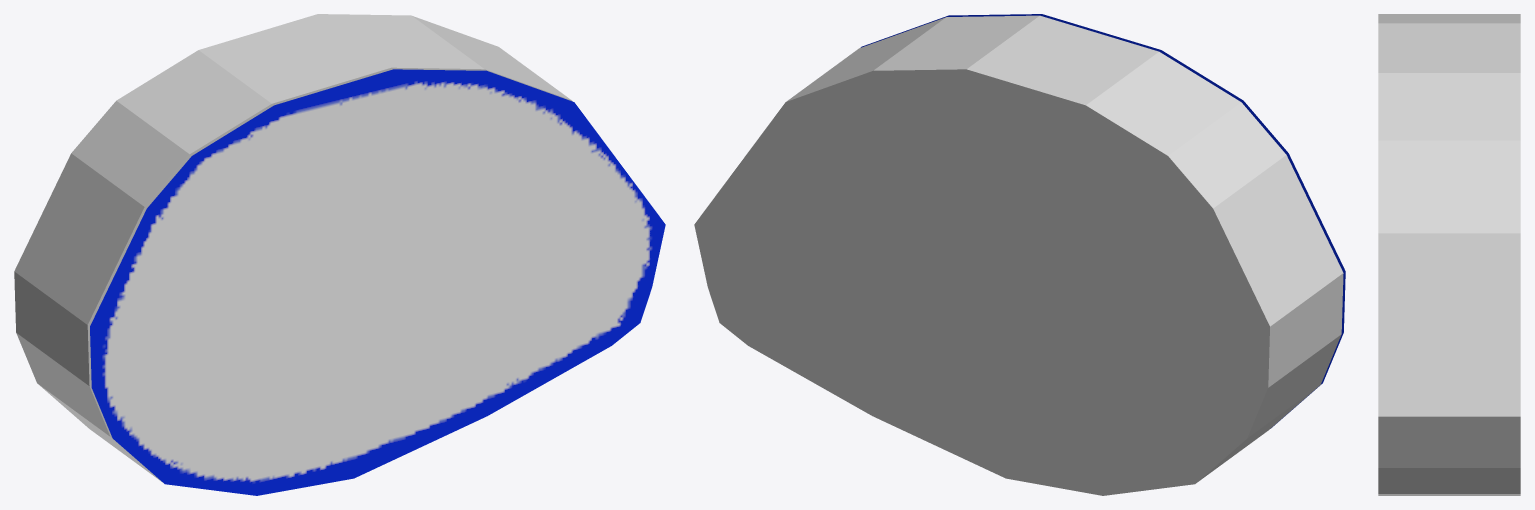
3 views of the same model, side by side, from view 1: azimuth 30°, elevation 25°; view 2: azimuth 150°, elevation 25°; view 3: azimuth 270°, elevation 25° (orthographic). The views are drawn at different scales.
Visible parts, largest first — view 1: In_2_1, In_2_0; view 2: In_2_0, In_2_1; view 3: In_2_0.
Boxes of the visible parts, x1,y1,x2,y2 form: In_2_1: (90,69,665,495); In_2_0: (14,14,572,482); In_2_0: (694,15,1343,495); In_2_1: (860,14,1345,428); In_2_0: (1378,14,1520,495).
Size of the model in its own units: 2.26 by 1.5 by 0.515.
Materials: 2 (1 with a texture image).
